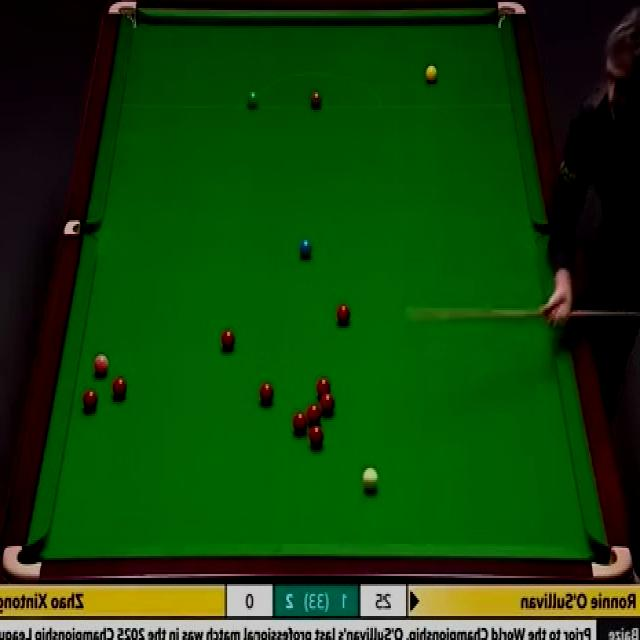blue-ball: (299, 237, 311, 260)
brown-ball: (309, 91, 323, 109)
green-ball: (245, 88, 260, 110)
pink-ball: (93, 353, 110, 375)
red-ball: (257, 380, 274, 408), (80, 388, 98, 412), (334, 305, 352, 326), (113, 375, 128, 400), (292, 410, 307, 434), (221, 328, 235, 352), (321, 393, 334, 418), (305, 407, 321, 427), (310, 426, 324, 448), (317, 378, 331, 399)
white-ball: (362, 468, 378, 492)
yellow-ball: (425, 64, 438, 86)
